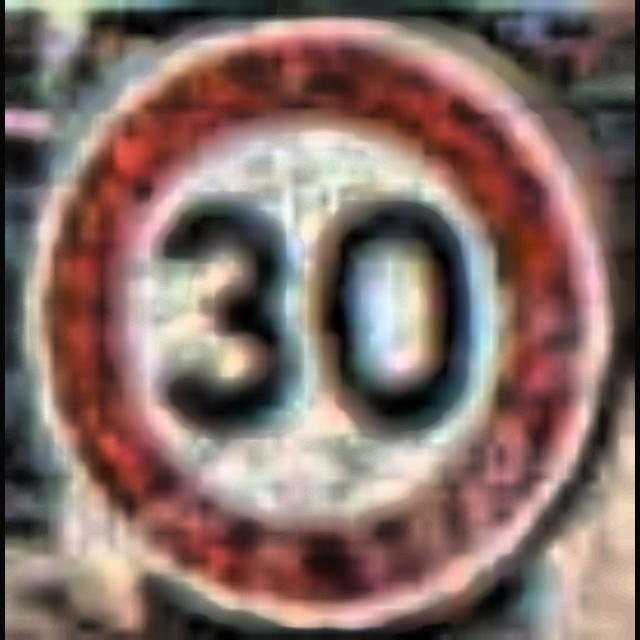speed_30: (6, 0, 626, 630)
